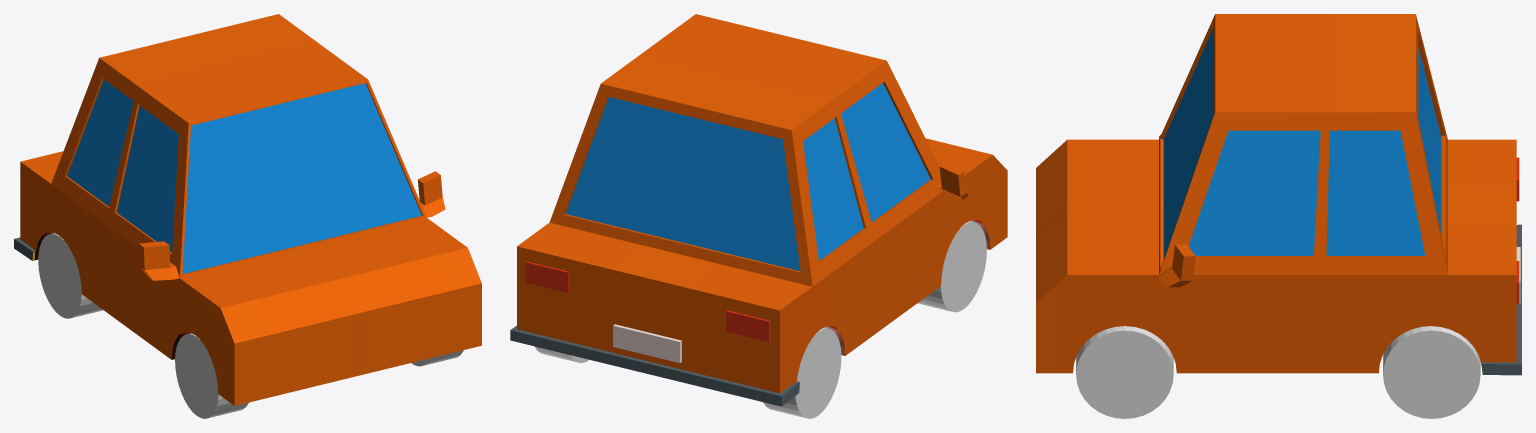
Rendered from car.glb.
3 views of the same model, side by side, from view 1: azimuth 30°, elevation 25°; view 2: azimuth 150°, elevation 25°; view 3: azimuth 270°, elevation 25° (orthographic). The views are drawn at different scales.
Visible parts, largest first — view 1: Cube.001, wheel_fl, wheel_rl; view 2: Cube.001, wheel_fl, wheel_rl; view 3: Cube.001, wheel_rr, wheel_fr.
Boxes of the visible parts, x1,y1,x2,y2 form: Cube.001: [14, 14, 481, 405]; wheel_fl: [175, 333, 248, 418]; wheel_rl: [38, 233, 103, 318]; Cube.001: [510, 14, 1007, 406]; wheel_fl: [918, 221, 986, 312]; wheel_rl: [763, 327, 841, 418]; Cube.001: [1036, 14, 1521, 375]; wheel_rr: [1383, 326, 1480, 418]; wheel_fr: [1076, 326, 1173, 418].
Size of the model in its own units: 2.41 by 1.97 by 3.03.
Materials: 1 (1 with a texture image).
